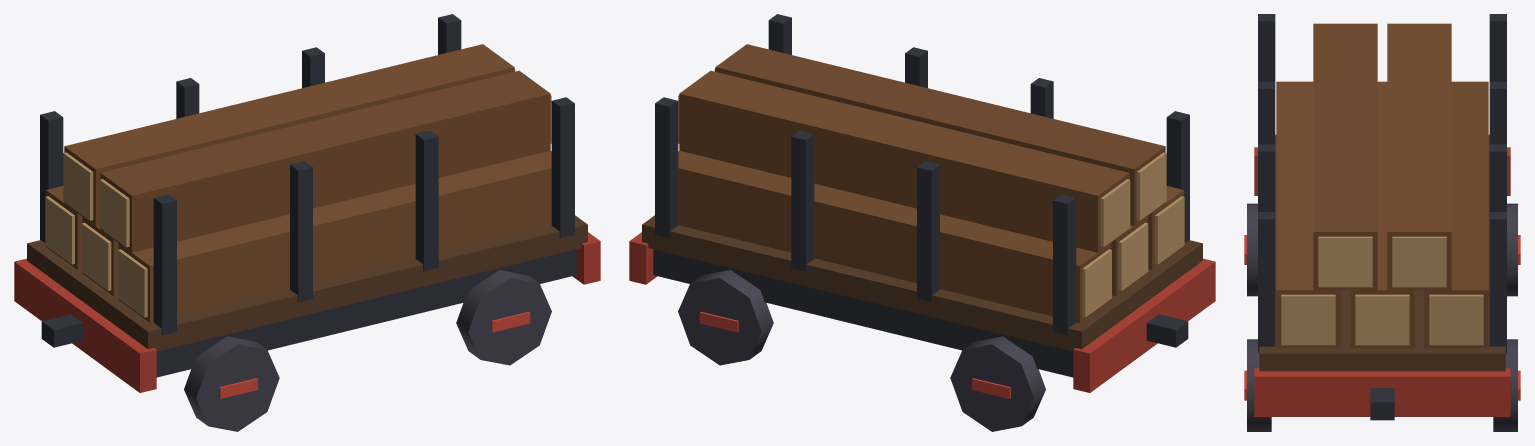
The model's file is car_07.glb.
3 renders of one model, left to right at view 1: azimuth 30°, elevation 25°; view 2: azimuth 150°, elevation 25°; view 3: azimuth 270°, elevation 25°, orthographic. The views are drawn at different scales.
Parts seen in each view (by area): view 1: car_07, Wheel1, Wheel3; view 2: car_07, Wheel0, Wheel2; view 3: car_07, Wheel2, Wheel3, Wheel0, Wheel1.
Boxes of the visible parts, x1,y1,x2,y2 form: car_07: (14, 14, 600, 392); Wheel1: (184, 336, 279, 431); Wheel3: (456, 270, 551, 365); car_07: (629, 14, 1215, 392); Wheel0: (950, 336, 1045, 431); Wheel2: (678, 270, 773, 365); car_07: (1254, 14, 1510, 420); Wheel2: (1493, 339, 1520, 431); Wheel3: (1244, 339, 1271, 431); Wheel0: (1507, 203, 1520, 296); Wheel1: (1244, 203, 1257, 296).
Size of the model in its own units: 2.48 by 1.1 by 1.12.
